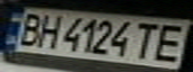1: (78, 16, 100, 54)
2: (93, 17, 115, 56)
4: (109, 18, 139, 58), (60, 15, 84, 53)
B: (9, 10, 48, 47)
E: (145, 21, 193, 63)
H: (30, 11, 63, 50)
T: (127, 20, 166, 61)
